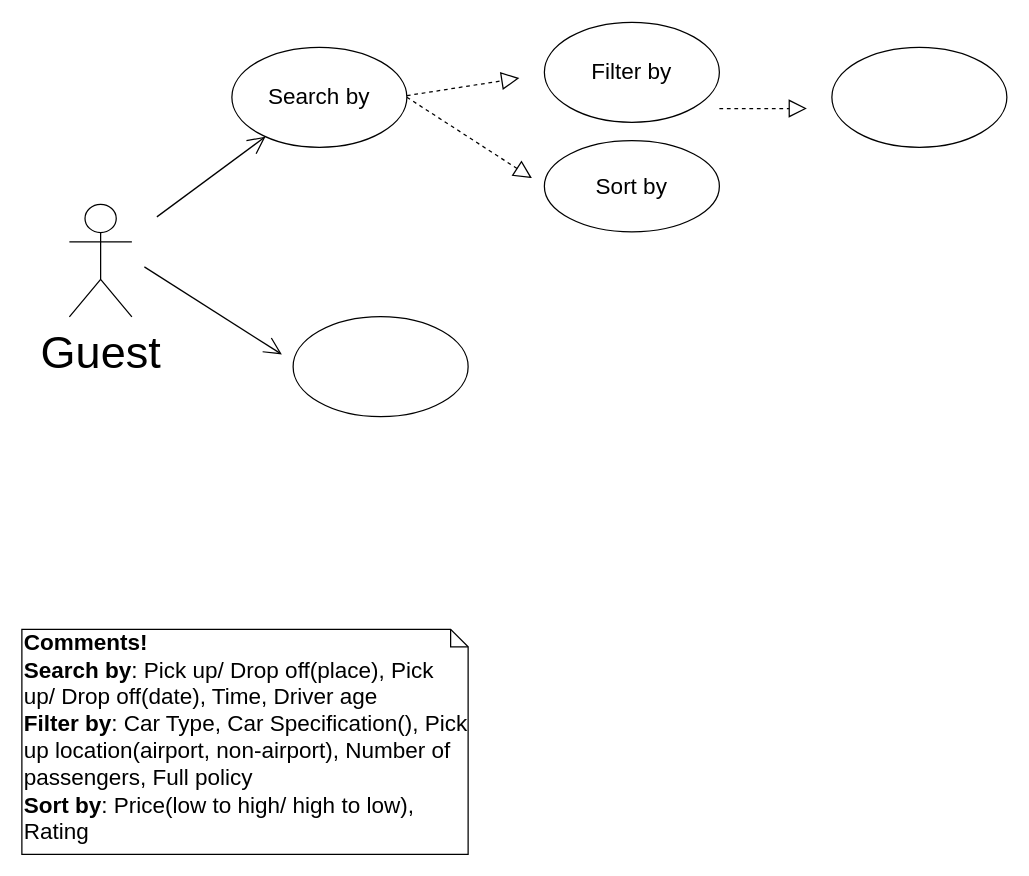
The diagram is 1029 pixels wide and 876 high, and some of its shapes have lost their labels. The shapes that lost their labels are listed below. From the top down, each one's centre as x and y in pixels, then its label:
the point at 919,96: View Car's details
the point at 380,366: Registration
